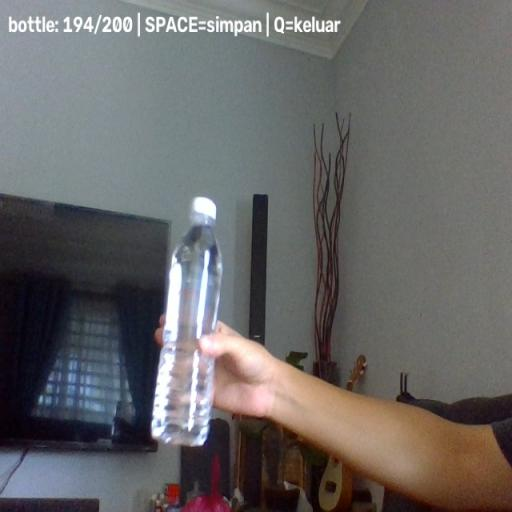Bottle: (151, 197, 223, 445)
